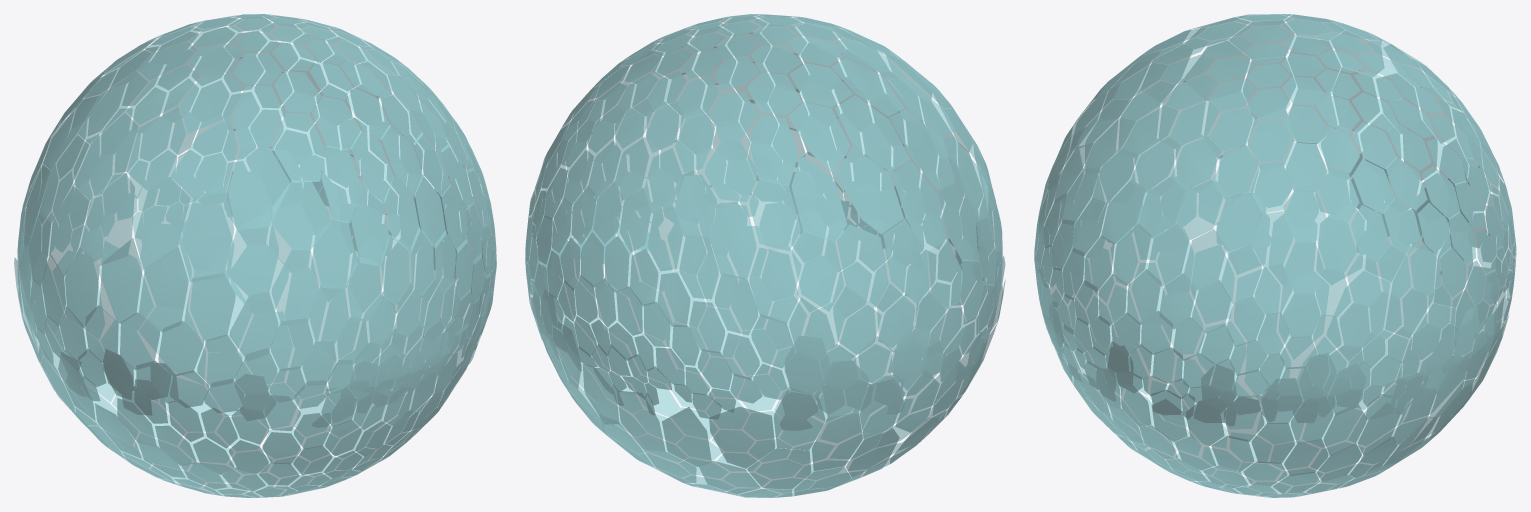
File: Barrier.fbx
3 renders of one model, left to right at view 1: azimuth 30°, elevation 25°; view 2: azimuth 150°, elevation 25°; view 3: azimuth 270°, elevation 25°, orthographic.
Visible parts, largest first — view 1: Cylinder.002; view 2: Cylinder.002; view 3: Cylinder.002.
Part boxes in pixels (x1,y1,x2,y2): Cylinder.002: [14, 14, 496, 497]; Cylinder.002: [525, 14, 1005, 497]; Cylinder.002: [1034, 14, 1516, 497].
Size of the model in its own units: 1537 by 1550 by 1540.
